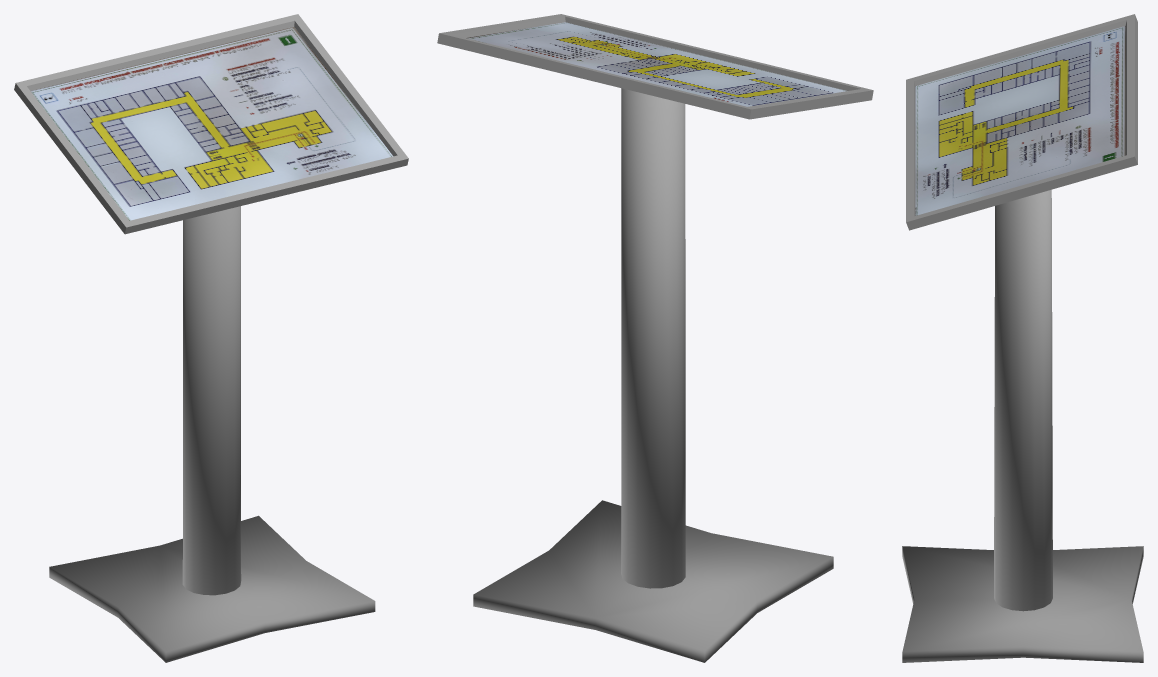
File: firestand.fbx
3 renders of one model, left to right at view 1: azimuth 30°, elevation 25°; view 2: azimuth 150°, elevation 25°; view 3: azimuth 270°, elevation 25°, orthographic. The views are drawn at different scales.
Visible parts, largest first — view 1: Куб.001; view 2: Куб.001; view 3: Куб.001.
Part boxes in pixels (left/top/right/bottom): Куб.001: left=14, top=14, right=408, bottom=662; Куб.001: left=437, top=14, right=873, bottom=662; Куб.001: left=902, top=14, right=1143, bottom=662.
Bounding box in the file's own units: 70 × 120 × 50.
Materials: 3 (1 with a texture image).
